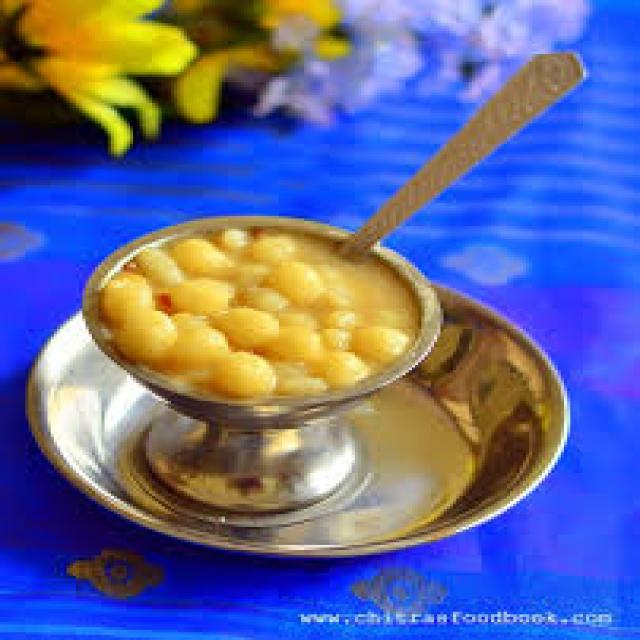paal kolukattai: (94, 212, 429, 408)
